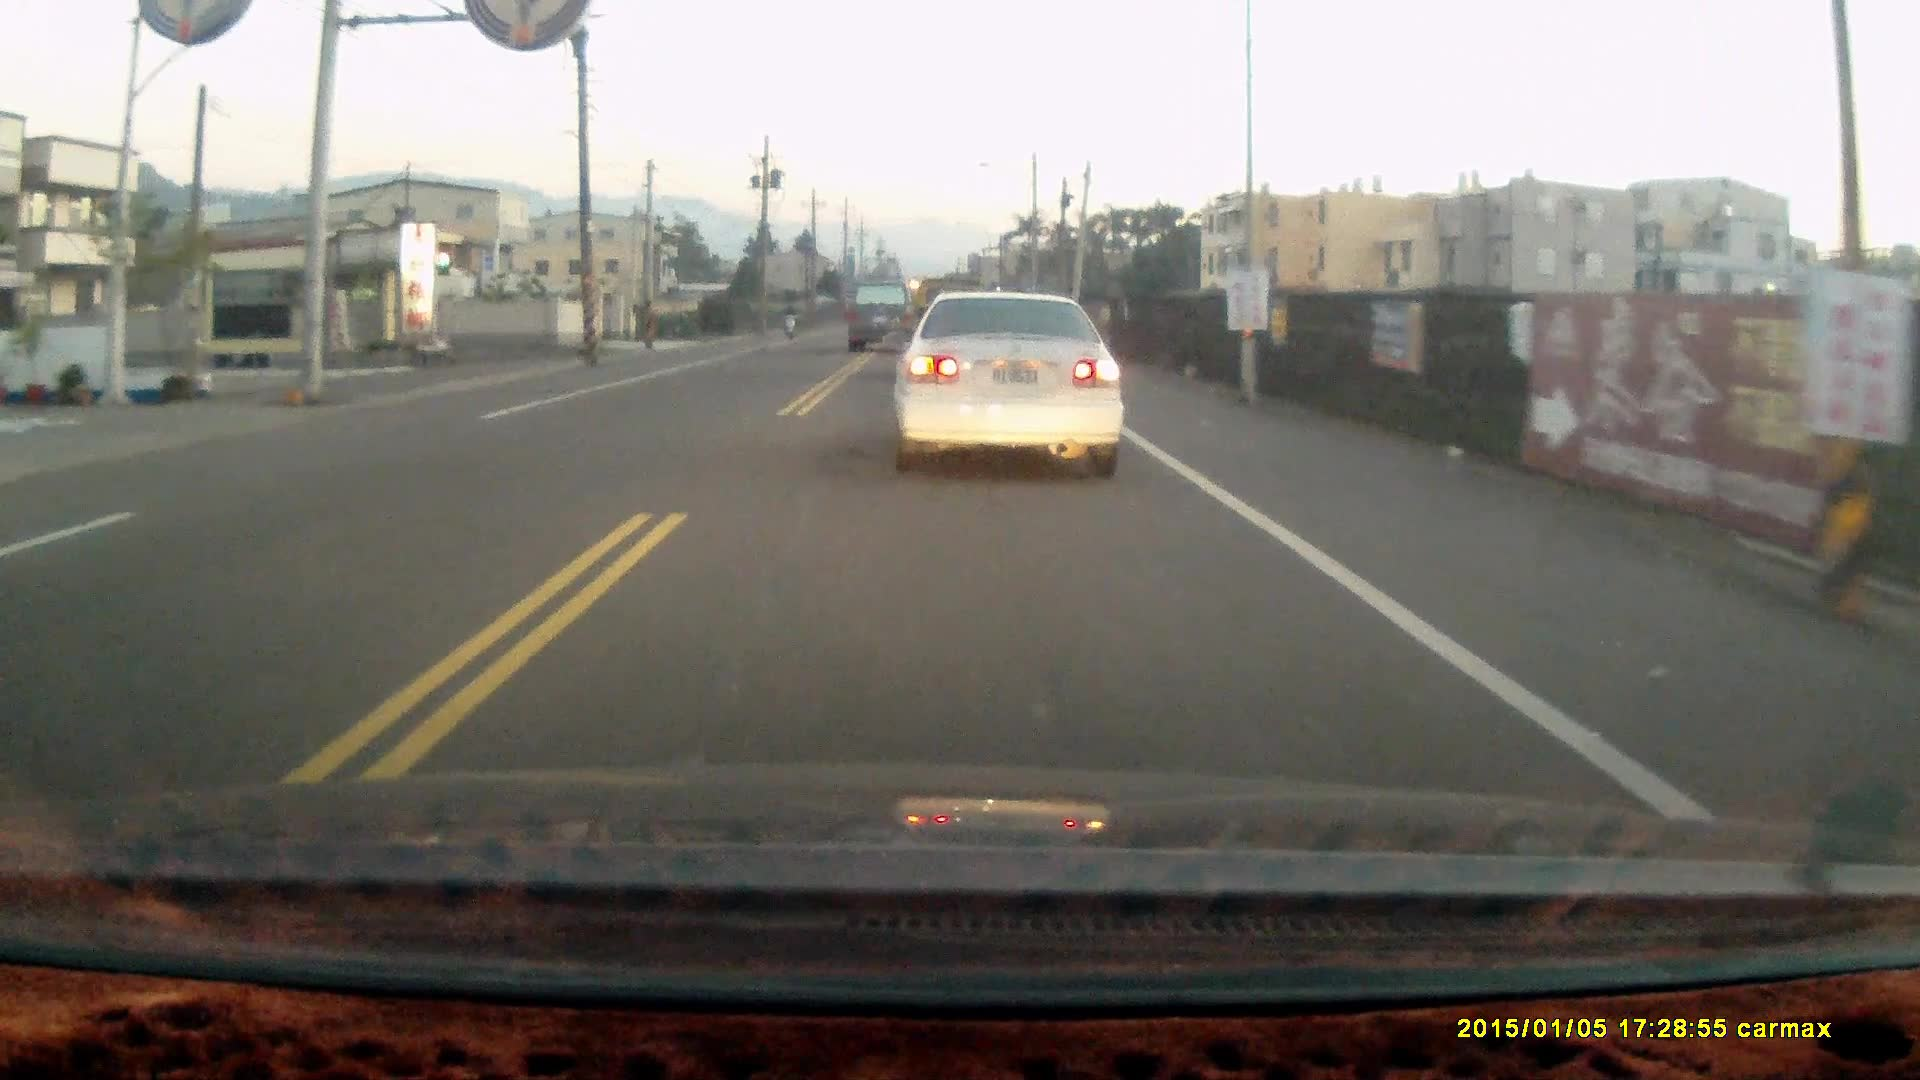rider: (781, 300, 801, 342)
vehicle: (888, 292, 1132, 484), (845, 279, 921, 357)
